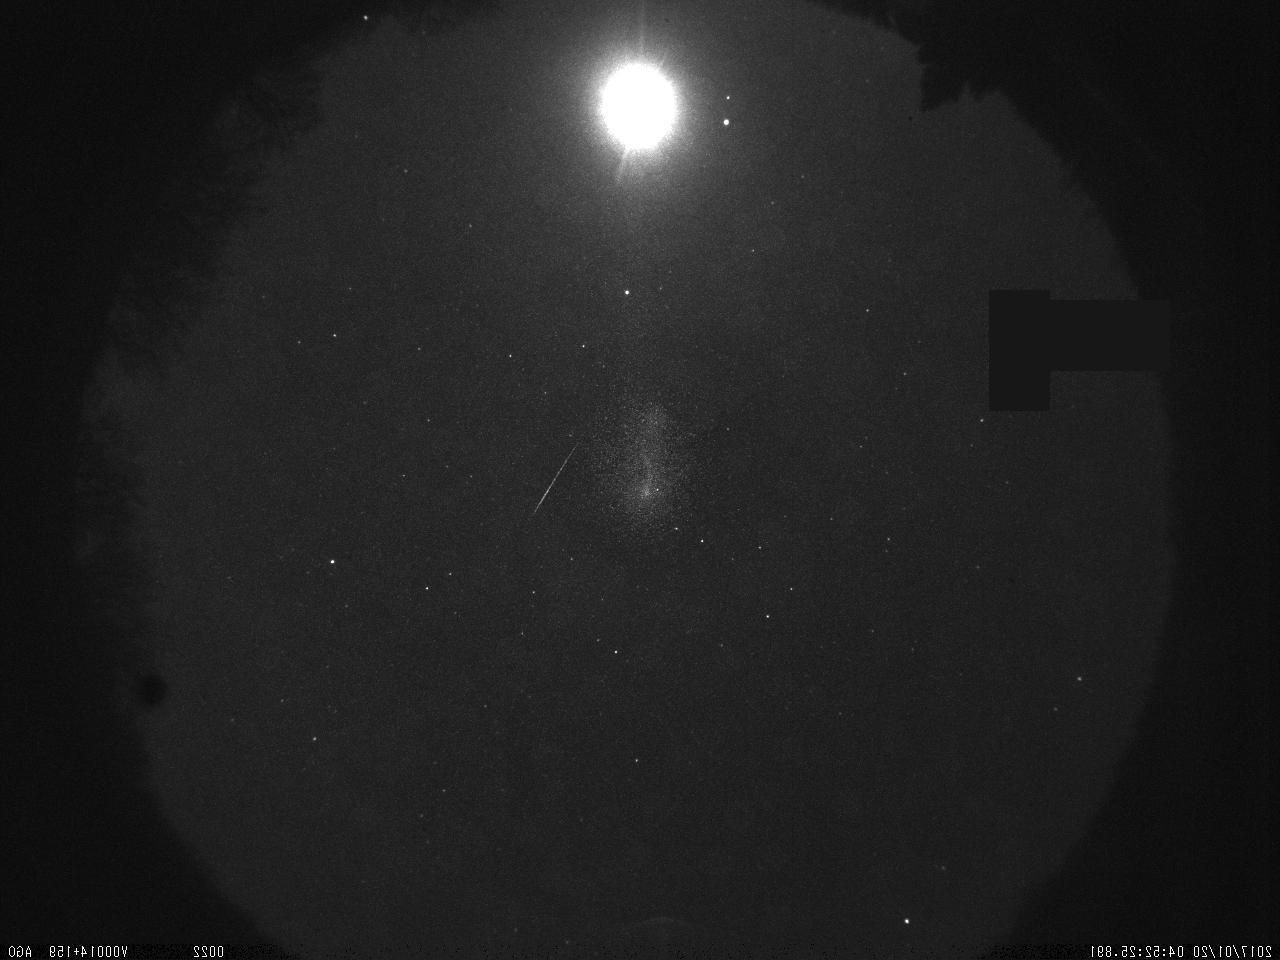meteor: (526, 436, 588, 521)
